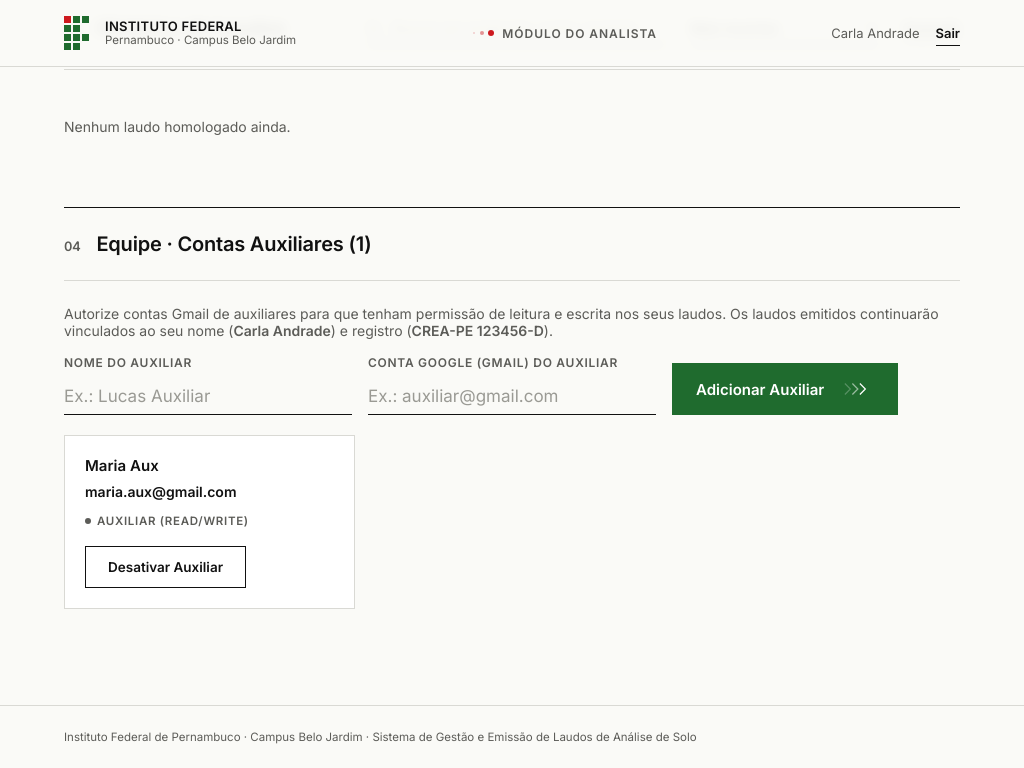
Test: AnalistaDashboardPage › gerencia auxiliares apenas para ANALISTA e oculta a seção para AUXILIAR
Later steps or results of the test are not shown.
(page scrolled)
Expected: the text "Maria Aux" is shown, [85,456,159,475]
In the field labelled "Nome do Auxiliar": [208, 397] box [64,378,352,415], type "Pedro Aux"
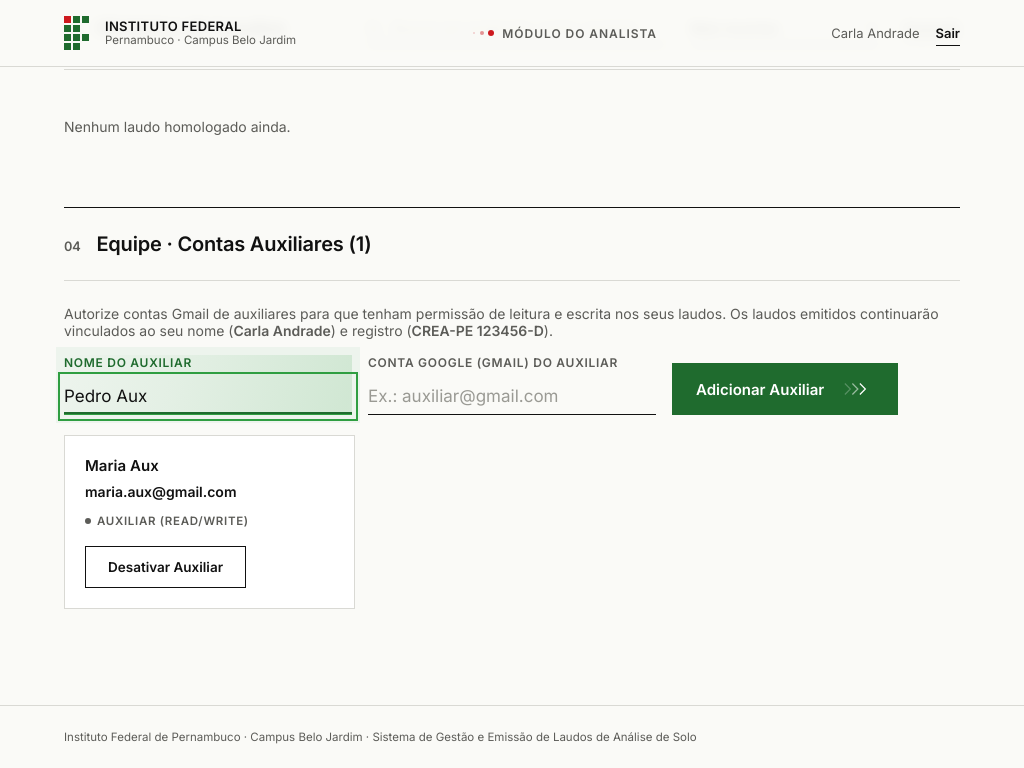
In the field labelled "Conta Google (Gmail) do Auxiliar": [512, 397] box [368,378,656,415], type "PEDRO@GMAIL.COM"
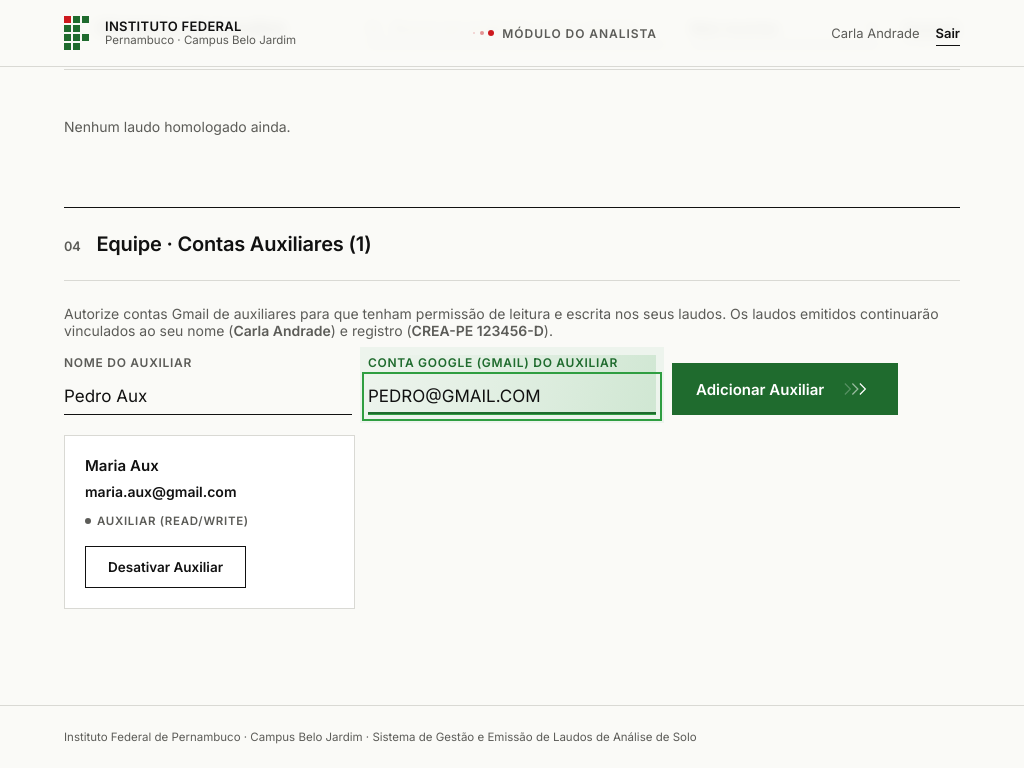
Click the button "Adicionar Auxiliar": [785, 389] box [672,363,898,415]
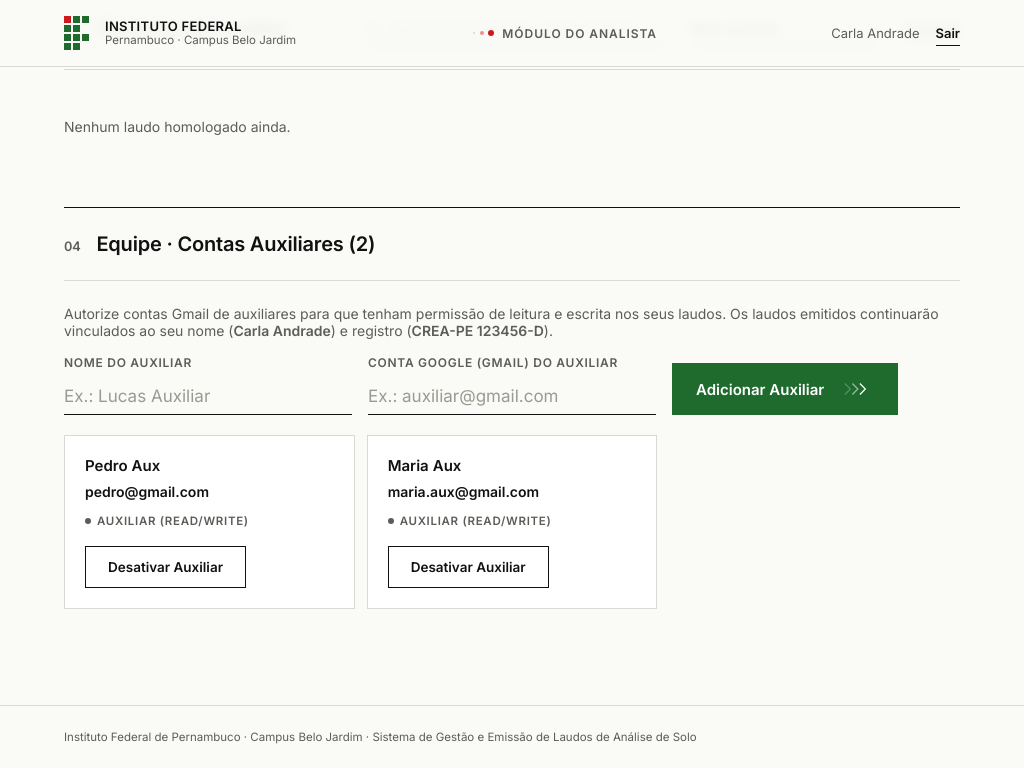
Now the text "Pedro Aux" is shown, box [85,456,160,475]
Click the button "Desativar Auxiliar" below "pedro@gmail.com": [166, 567] box [85,546,246,588]
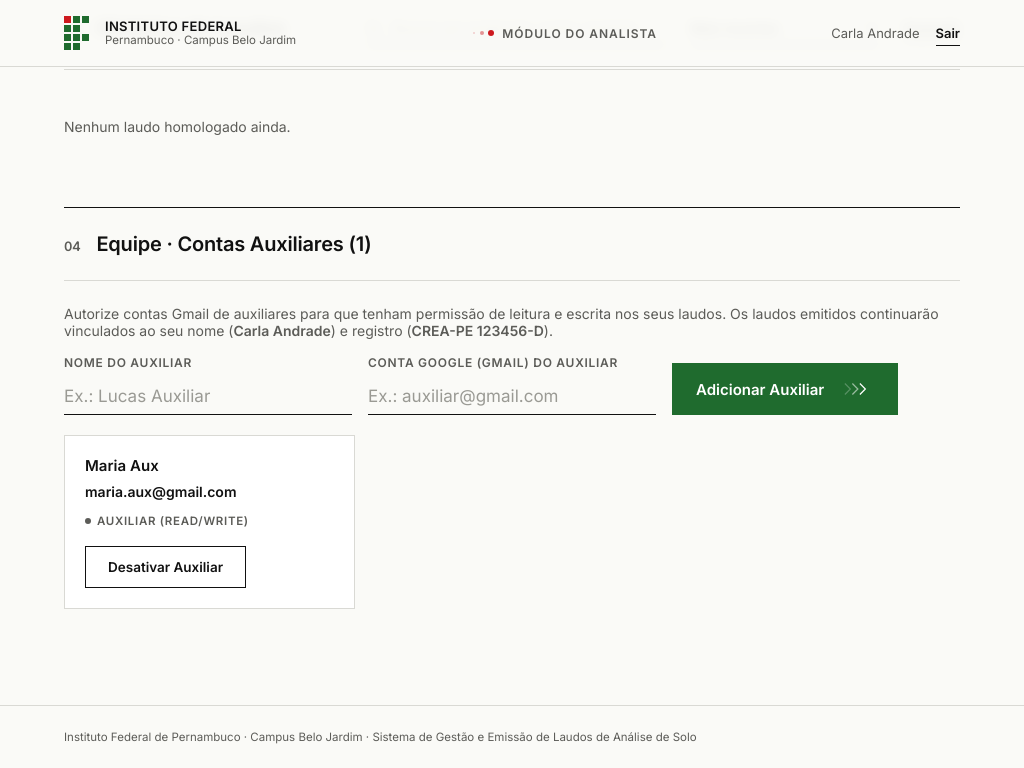
Now the text "Pedro Aux" is gone
